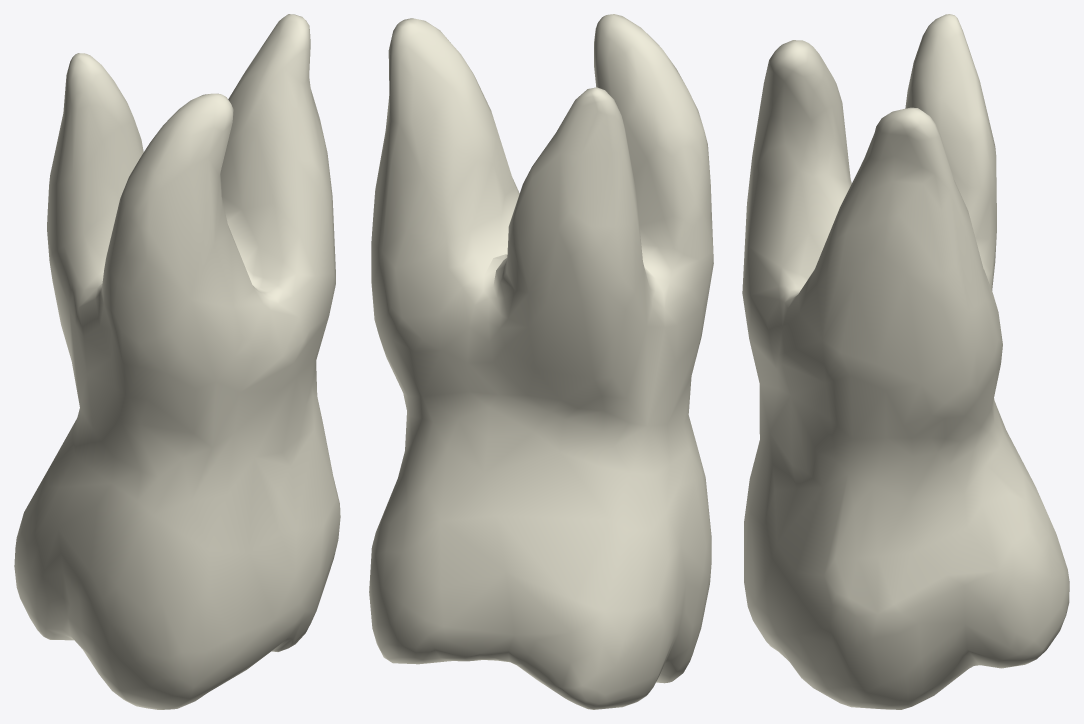
File: Right first upper molar tooth.fbx
3 views of the same model, side by side, from view 1: azimuth 30°, elevation 25°; view 2: azimuth 150°, elevation 25°; view 3: azimuth 270°, elevation 25° (orthographic). The views are drawn at different scales.
Visible parts, largest first — view 1: Right first upper molar tooth; view 2: Right first upper molar tooth; view 3: Right first upper molar tooth.
Boxes of the visible parts, x1,y1,x2,y2 form: Right first upper molar tooth: (14,14,340,709); Right first upper molar tooth: (369,14,713,709); Right first upper molar tooth: (742,14,1069,709).
Bounding box in the file's own units: 1.54 × 3.27 × 1.53.
